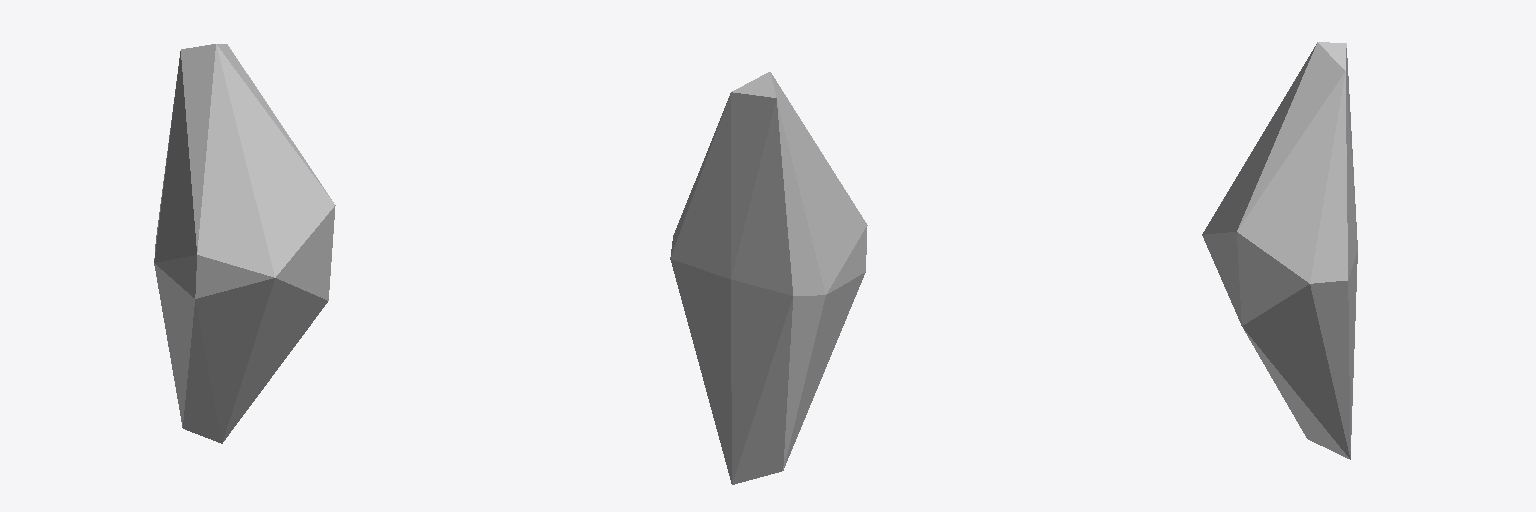
The model's file is croissant_01_col.obj.
3 renders of one model, left to right at view 1: azimuth 30°, elevation 25°; view 2: azimuth 150°, elevation 25°; view 3: azimuth 270°, elevation 25°, orthographic.
Visible parts, largest first — view 1: croissant_01_collision; view 2: croissant_01_collision; view 3: croissant_01_collision.
Boxes of the visible parts, box(x1,y1,x2,y2) form: croissant_01_collision: box(154, 44, 335, 443); croissant_01_collision: box(670, 72, 867, 484); croissant_01_collision: box(1202, 42, 1357, 459).
Bounding box in the file's own units: 2.89 × 7.02 × 2.44.